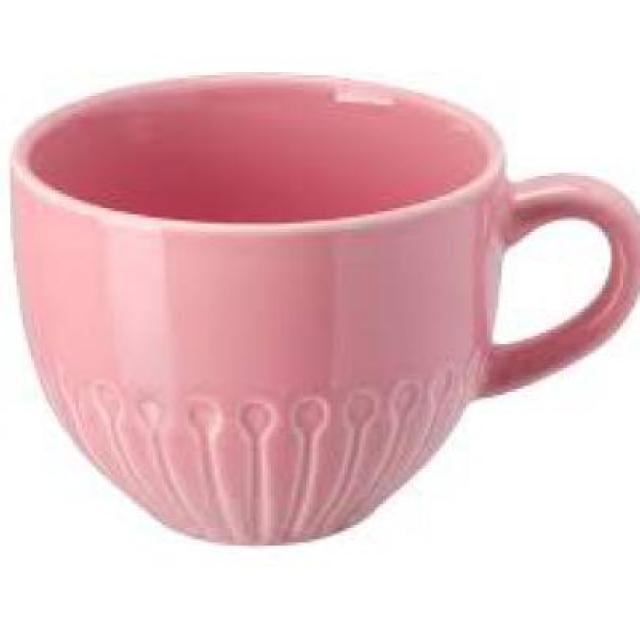cup: (9, 71, 639, 555)
